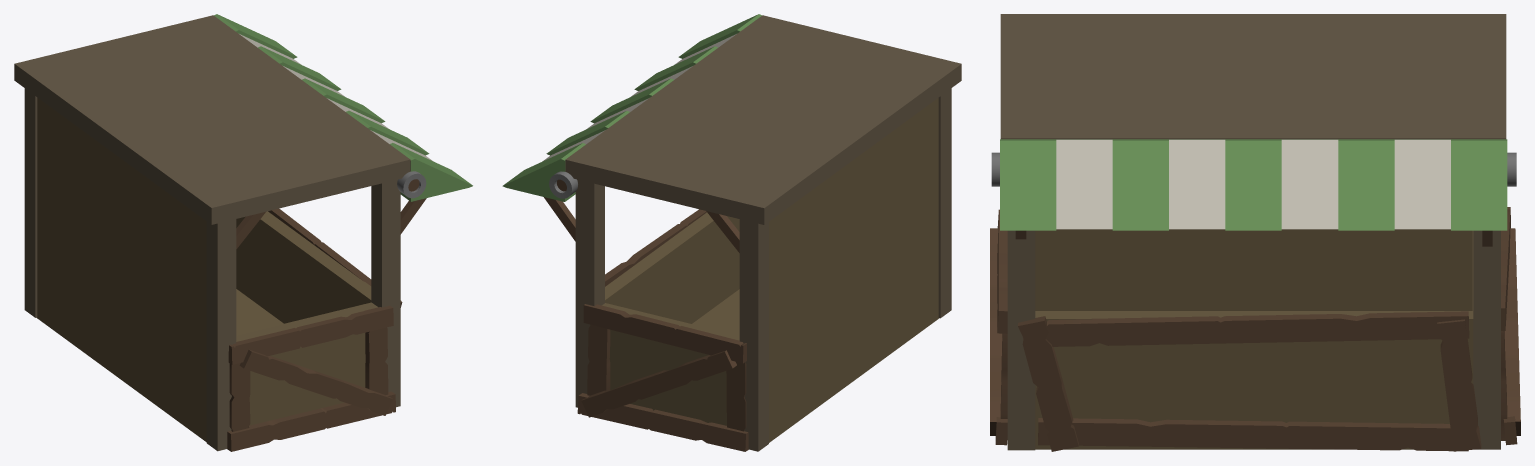
File: MARKET STALL green.fbx
3 views of the same model, side by side, from view 1: azimuth 30°, elevation 25°; view 2: azimuth 150°, elevation 25°; view 3: azimuth 270°, elevation 25° (orthographic). The views are drawn at different scales.
Parts seen in each view (by area): view 1: pCube1, pCube6, pCube5, pCube7, pCube2, pCube16, pCube20, pCube17, pCube4, pCube13, pCube14, pCube9 (+1 smaller); view 2: pCube1, pCube6, pCube4, pCube7, pCube3, pCube19, pCube18, pCube21, pCube5, pCube15, pCube12, pCube9 (+3 smaller); view 3: pCube1, pCube6, pCube7, pCube9, pCube8, pCube3, pCube2, pCube10, pCube11, pCube21, pCube20, pCube16 (+3 smaller).
Boxes of the visible parts, <box> form: pCube1: <box>36,97,377,441</box>; pCube6: <box>14,15,410,224</box>; pCube5: <box>206,219,236,451</box>; pCube7: <box>214,14,472,201</box>; pCube2: <box>371,179,400,407</box>; pCube16: <box>228,305,393,364</box>; pCube20: <box>239,349,392,415</box>; pCube17: <box>227,391,395,451</box>; pCube4: <box>24,88,37,317</box>; pCube13: <box>364,307,388,394</box>; pCube14: <box>229,363,250,431</box>; pCube9: <box>268,208,371,285</box>; pCube1: <box>602,98,939,442</box>; pCube6: <box>565,15,961,224</box>; pCube4: <box>739,219,768,451</box>; pCube7: <box>502,14,761,201</box>; pCube3: <box>575,179,604,407</box>; pCube19: <box>583,304,746,363</box>; pCube18: <box>577,393,748,451</box>; pCube21: <box>581,350,736,417</box>; pCube5: <box>938,88,951,318</box>; pCube15: <box>587,324,610,395</box>; pCube12: <box>726,362,746,431</box>; pCube9: <box>605,209,706,286</box>; pCube1: <box>1035,229,1473,449</box>; pCube6: <box>1000,14,1506,139</box>; pCube7: <box>1000,139,1507,230</box>; pCube9: <box>1046,311,1469,346</box>; pCube8: <box>1038,418,1468,451</box>; pCube3: <box>1473,230,1500,449</box>; pCube2: <box>1007,230,1035,450</box>; pCube10: <box>1017,316,1078,451</box>; pCube11: <box>1437,319,1481,451</box>; pCube21: <box>1504,228,1520,435</box>; pCube20: <box>990,228,1002,435</box>; pCube16: <box>997,209,1007,333</box>.
Bounding box in the file's own units: 11.33 × 10.25 × 15.53.
